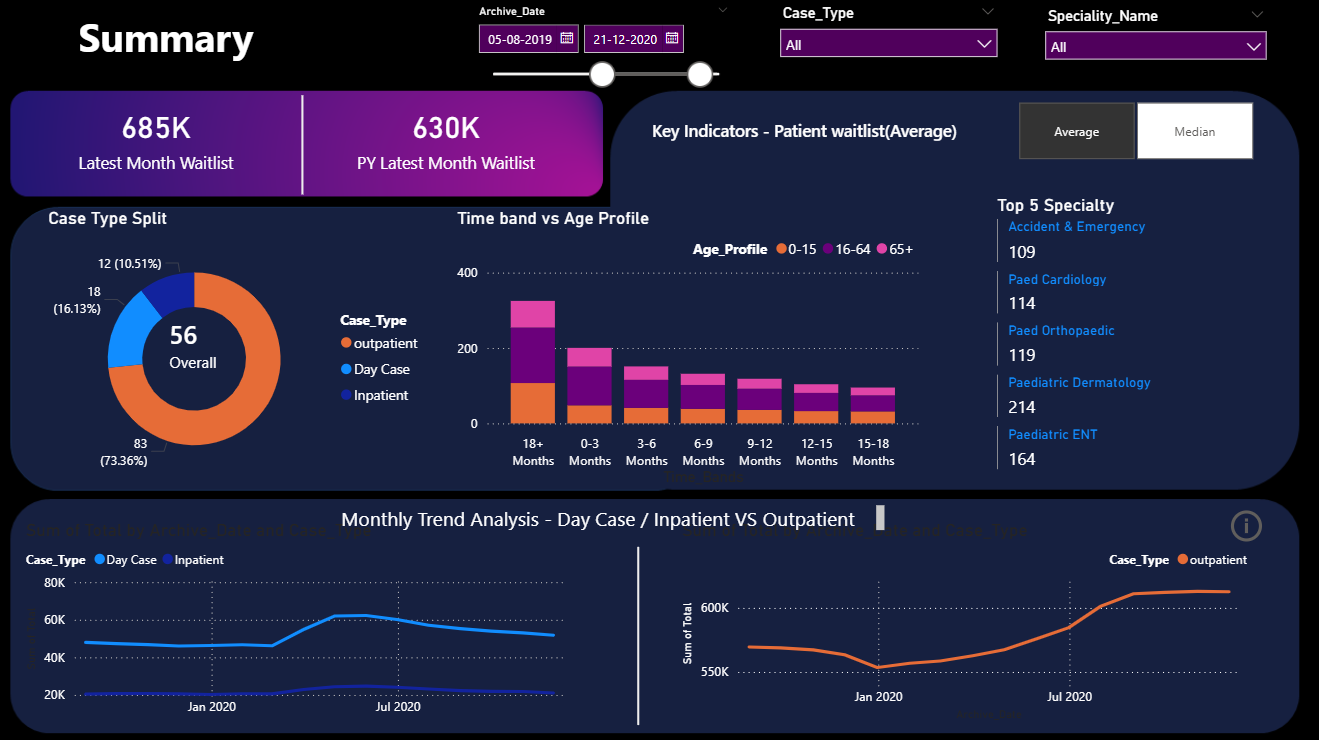

The dashboard page shown, as its layout file describes it:
{"tool":"powerbi","page":{"name":"Summary","canvas":[1280,720],"ordinal":0},"visuals":[{"type":"card","fields":{"Values":["All_Data.Latest Month Waitlist"]},"box":[22.9,92.9,261.4,81.4],"z":0},{"type":"card","fields":{"Values":["All_Data.PY Latest Month Waitlist"]},"box":[302.9,92.9,261.4,81.4],"z":1000},{"type":"slicer","fields":{"Values":["Calculation_Method.Calc Method"]},"box":[960,92.9,275.7,68.6],"z":2000},{"type":"donutChart","title":"Case Type Split","fields":{"Category":["All_Data.Case_Type"],"Y":["All_Data.Avg/Med Waitlist"]},"box":[44.3,201.4,375.7,272.9],"z":3000},{"type":"columnChart","title":"Time band vs Age Profile","fields":{"Y":["All_Data.Avg/Med Waitlist"],"Category":["All_Data.Time_Bands"],"Series":["All_Data.Age_Profile"]},"box":[438.6,201.4,455.7,272.9],"z":4000},{"type":"multiRowCard","title":"Top 5 Specialty","fields":{"Values":["All_Data.Speciality_Name","All_Data.Avg/Med Waitlist"]},"box":[960,188.6,275.7,285.7],"z":5000},{"type":"lineChart","fields":{"Category":["All_Data.Archive_Date"],"Y":["Sum(All_Data.Total)"],"Series":["All_Data.Case_Type"]},"box":[22.9,501.4,541.4,200],"z":6000},{"type":"lineChart","fields":{"Category":["All_Data.Archive_Date"],"Y":["Sum(All_Data.Total)"],"Series":["All_Data.Case_Type"]},"box":[655.7,501.4,560,200],"z":7000},{"type":"textbox","box":[22.9,5.7,280,77.1],"z":8000},{"type":"slicer","fields":{"Values":["All_Data.Archive_Date"]},"box":[452.9,0,265.7,92.9],"z":9000},{"type":"slicer","fields":{"Values":["All_Data.Case_Type"]},"box":[745.7,0,230,82.9],"z":10000},{"type":"slicer","fields":{"Values":["All_Data.Speciality_Name"]},"box":[1001.4,2.9,234.3,80],"z":11000},{"type":"cardVisual","fields":{"Data":["All_Data.Avg/Med Waitlist"]},"box":[137.1,265.7,147.1,137.1],"z":12000},{"type":"shape","box":[144.3,92.9,300,95.7],"z":13000},{"type":"shape","box":[556.2,528.4,125.5,172.5],"z":14000},{"type":"textbox","box":[327.1,484.3,534.3,34.3],"z":15000},{"type":"cardVisual","fields":{"Data":["All_Data.Dynamic Title"]},"box":[602.9,92.9,372.9,67.1],"z":16000},{"type":"actionButton","title":"im","box":[1185.7,488.6,50,40],"z":17000}]}

Visuals, with their boxes in screenshot pixels (x1, y1, x2, y2), scaled from the page's 1280x720 canvas onto the 1319x740 screenshot:
card - All_Data.Latest Month Waitlist: (left=24, top=95, right=293, bottom=179)
card - All_Data.PY Latest Month Waitlist: (left=312, top=95, right=581, bottom=179)
slicer - Calculation_Method.Calc Method: (left=989, top=95, right=1273, bottom=166)
"Case Type Split" donutChart: (left=46, top=207, right=433, bottom=487)
"Time band vs Age Profile" columnChart: (left=452, top=207, right=922, bottom=487)
"Top 5 Specialty" multiRowCard: (left=989, top=194, right=1273, bottom=487)
lineChart - All_Data.Archive_Date x Sum(All_Data.Total): (left=24, top=515, right=581, bottom=721)
lineChart - All_Data.Archive_Date x Sum(All_Data.Total): (left=676, top=515, right=1253, bottom=721)
textbox: (left=24, top=6, right=312, bottom=85)
slicer - All_Data.Archive_Date: (left=467, top=0, right=740, bottom=95)
slicer - All_Data.Case_Type: (left=768, top=0, right=1005, bottom=85)
slicer - All_Data.Speciality_Name: (left=1032, top=3, right=1273, bottom=85)
cardVisual - All_Data.Avg/Med Waitlist: (left=141, top=273, right=293, bottom=414)
shape: (left=149, top=95, right=458, bottom=194)
shape: (left=573, top=543, right=702, bottom=720)
textbox: (left=337, top=498, right=888, bottom=533)
cardVisual - All_Data.Dynamic Title: (left=621, top=95, right=1006, bottom=164)
"im" actionButton: (left=1222, top=502, right=1273, bottom=543)
